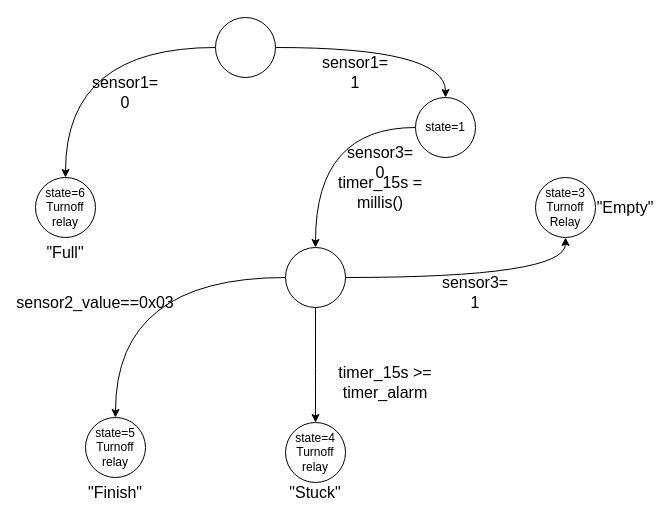
Image size: 672x525. Some labels were removed from this diagram. The centre of each missing label's shape, as x and y in pixels:
"state=0" belongs at (x=245, y=47).
"state=2 /run motor" belongs at (x=315, y=277).
